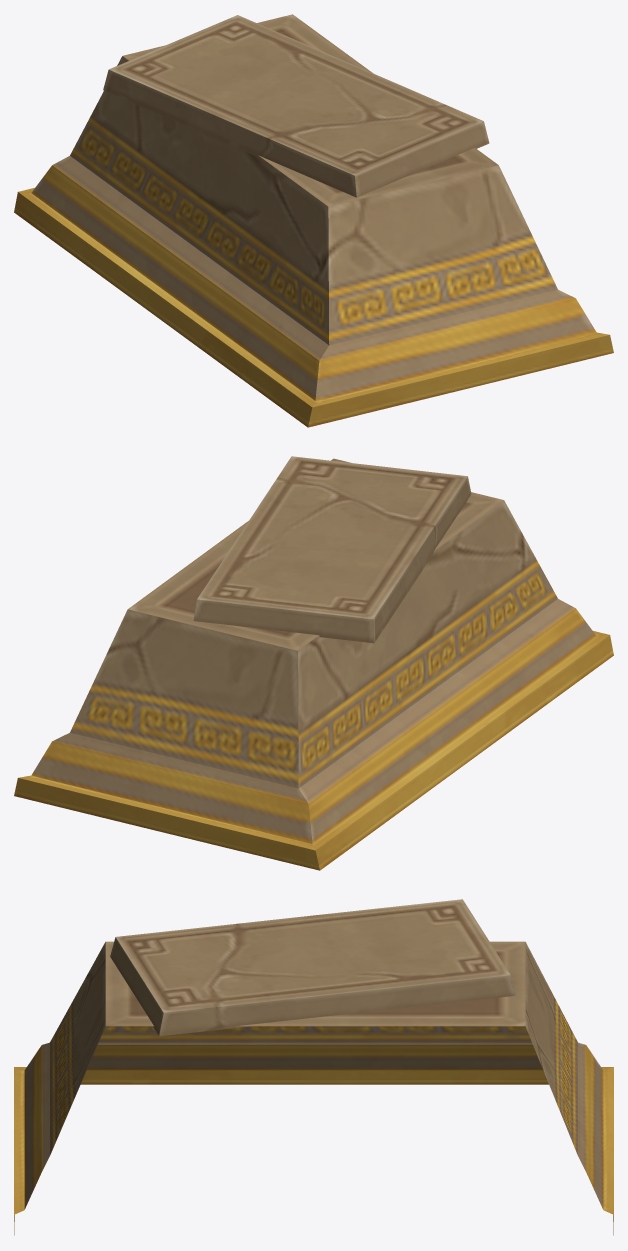
The model's file is desert_dungeon_prop_9.FBX.
3 renders of one model, top to bottom at view 1: azimuth 30°, elevation 25°; view 2: azimuth 150°, elevation 25°; view 3: azimuth 270°, elevation 25°, orthographic.
Parts seen in each view (by area): view 1: Box052; view 2: Box052; view 3: Box052.
Boxes of the visible parts, <box> form: Box052: <box>14,14,613,427</box>; Box052: <box>14,456,613,870</box>; Box052: <box>14,899,613,1235</box>.
Size of the model in its own units: 34.81 by 58.02 by 20.87.
